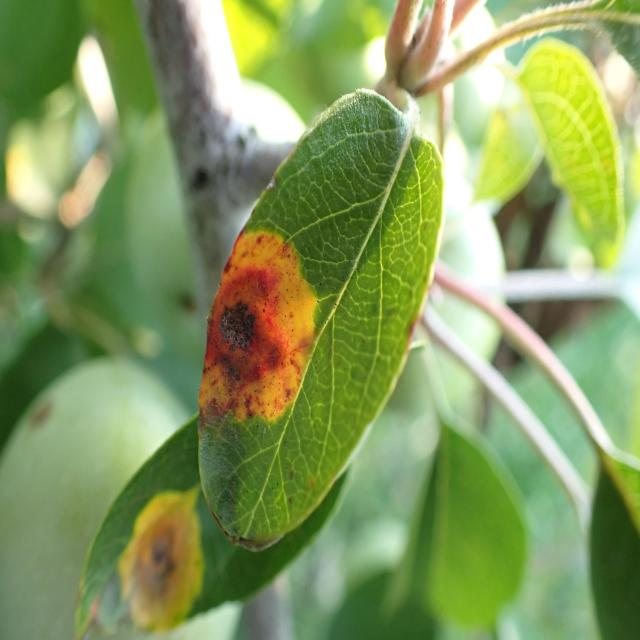Rust: (155, 190, 341, 452), (81, 470, 243, 632)
